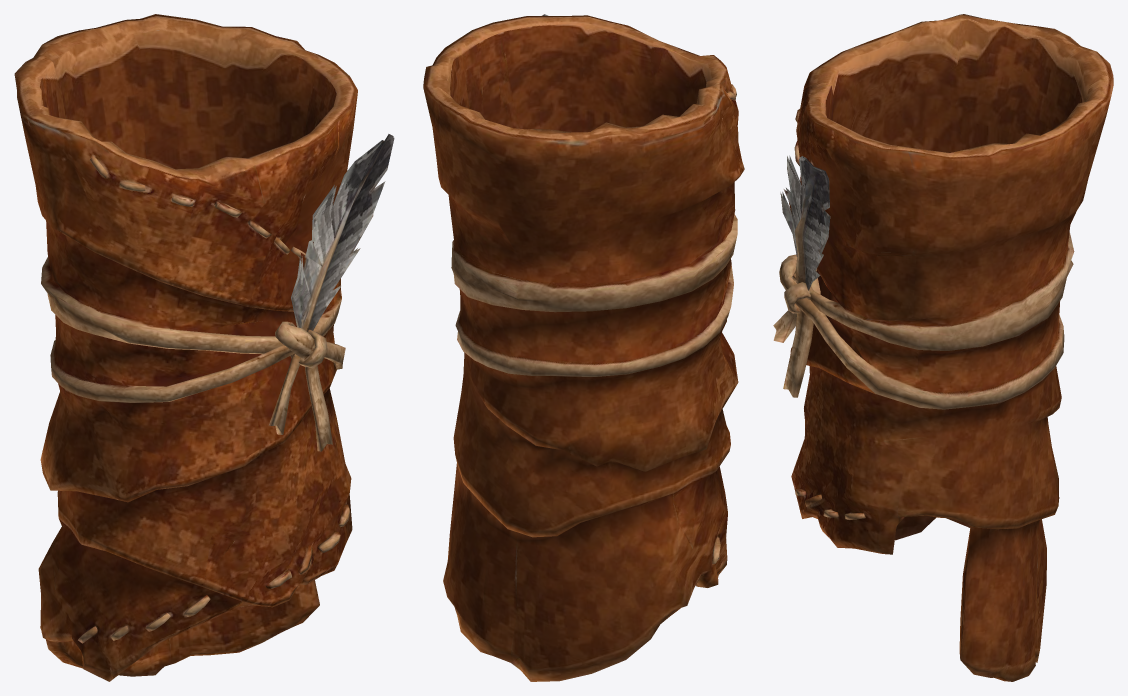
File: GearLeatherWraps.fbx
3 renders of one model, left to right at view 1: azimuth 30°, elevation 25°; view 2: azimuth 150°, elevation 25°; view 3: azimuth 270°, elevation 25°, orthographic. The views are drawn at different scales.
Visible parts, largest first — view 1: Mesh_0; view 2: Mesh_0; view 3: Mesh_0.
Boxes of the visible parts, bbox=[...] form: Mesh_0: bbox=[14, 14, 394, 681]; Mesh_0: bbox=[423, 14, 744, 681]; Mesh_0: bbox=[773, 14, 1113, 681].
Bounding box in the file's own units: 47.36 × 95.31 × 50.59.
1 material, 1 textured.
